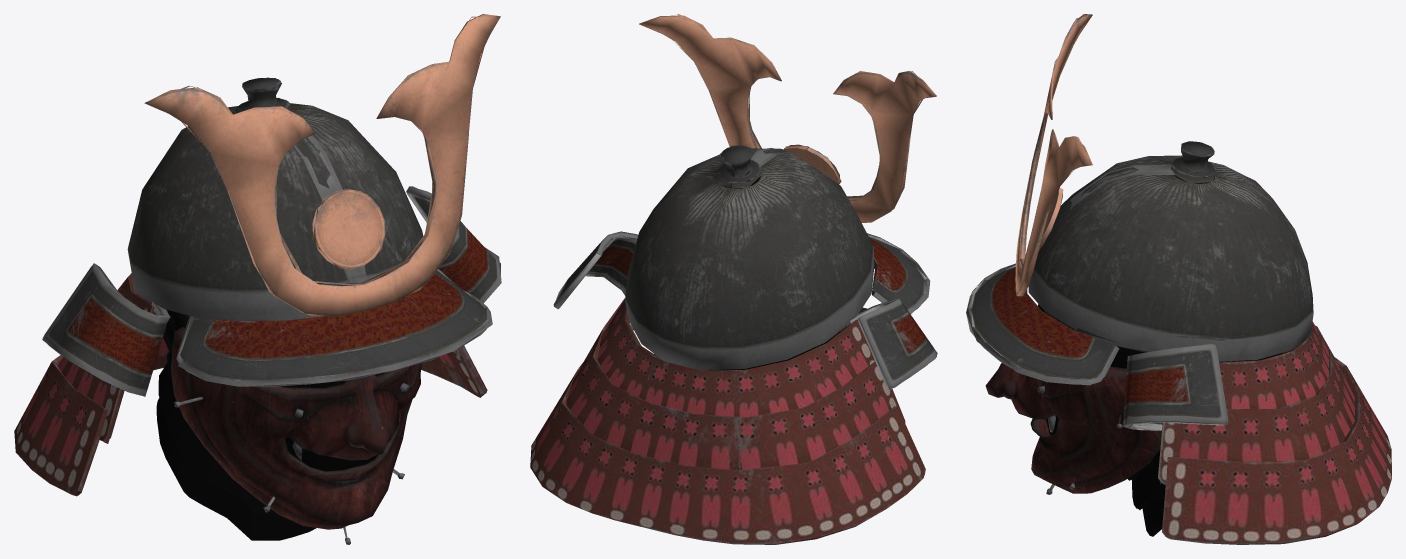
Rendered from kabuto.glb.
The picture shows the model from 3 angles, left to right: view 1: azimuth 30°, elevation 25°; view 2: azimuth 150°, elevation 25°; view 3: azimuth 270°, elevation 25°; orthographic projection. The views are drawn at different scales.
Visible parts, largest first — view 1: Samurai_Helmet_09_low001_UV_Samurai_Helmet_0, Samurai_Mask_low001_UV_Samurai_Mask_0, Object002_M_UE4Man_Body_0; view 2: Samurai_Helmet_09_low001_UV_Samurai_Helmet_0; view 3: Samurai_Helmet_09_low001_UV_Samurai_Helmet_0, Samurai_Mask_low001_UV_Samurai_Mask_0, Object002_M_UE4Man_Body_0.
Boxes of the visible parts, left/top/right/bottom form: Samurai_Helmet_09_low001_UV_Samurai_Helmet_0: left=14, top=14, right=501, bottom=496; Samurai_Mask_low001_UV_Samurai_Mask_0: left=171, top=327, right=422, bottom=544; Object002_M_UE4Man_Body_0: left=156, top=309, right=384, bottom=540; Samurai_Helmet_09_low001_UV_Samurai_Helmet_0: left=530, top=14, right=937, bottom=544; Samurai_Helmet_09_low001_UV_Samurai_Helmet_0: left=966, top=14, right=1391, bottom=544; Samurai_Mask_low001_UV_Samurai_Mask_0: left=985, top=363, right=1161, bottom=494; Object002_M_UE4Man_Body_0: left=1038, top=304, right=1282, bottom=536.
Bounding box in the file's own units: 37.16 × 42.72 × 36.83.
Materials: 3 (2 with a texture image).
